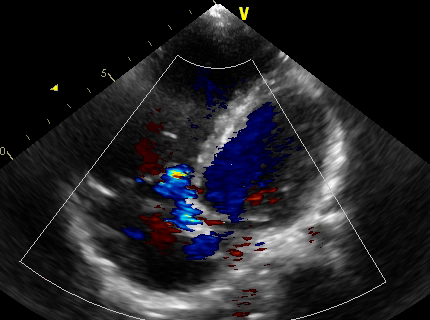TR: (132, 158, 209, 228)
